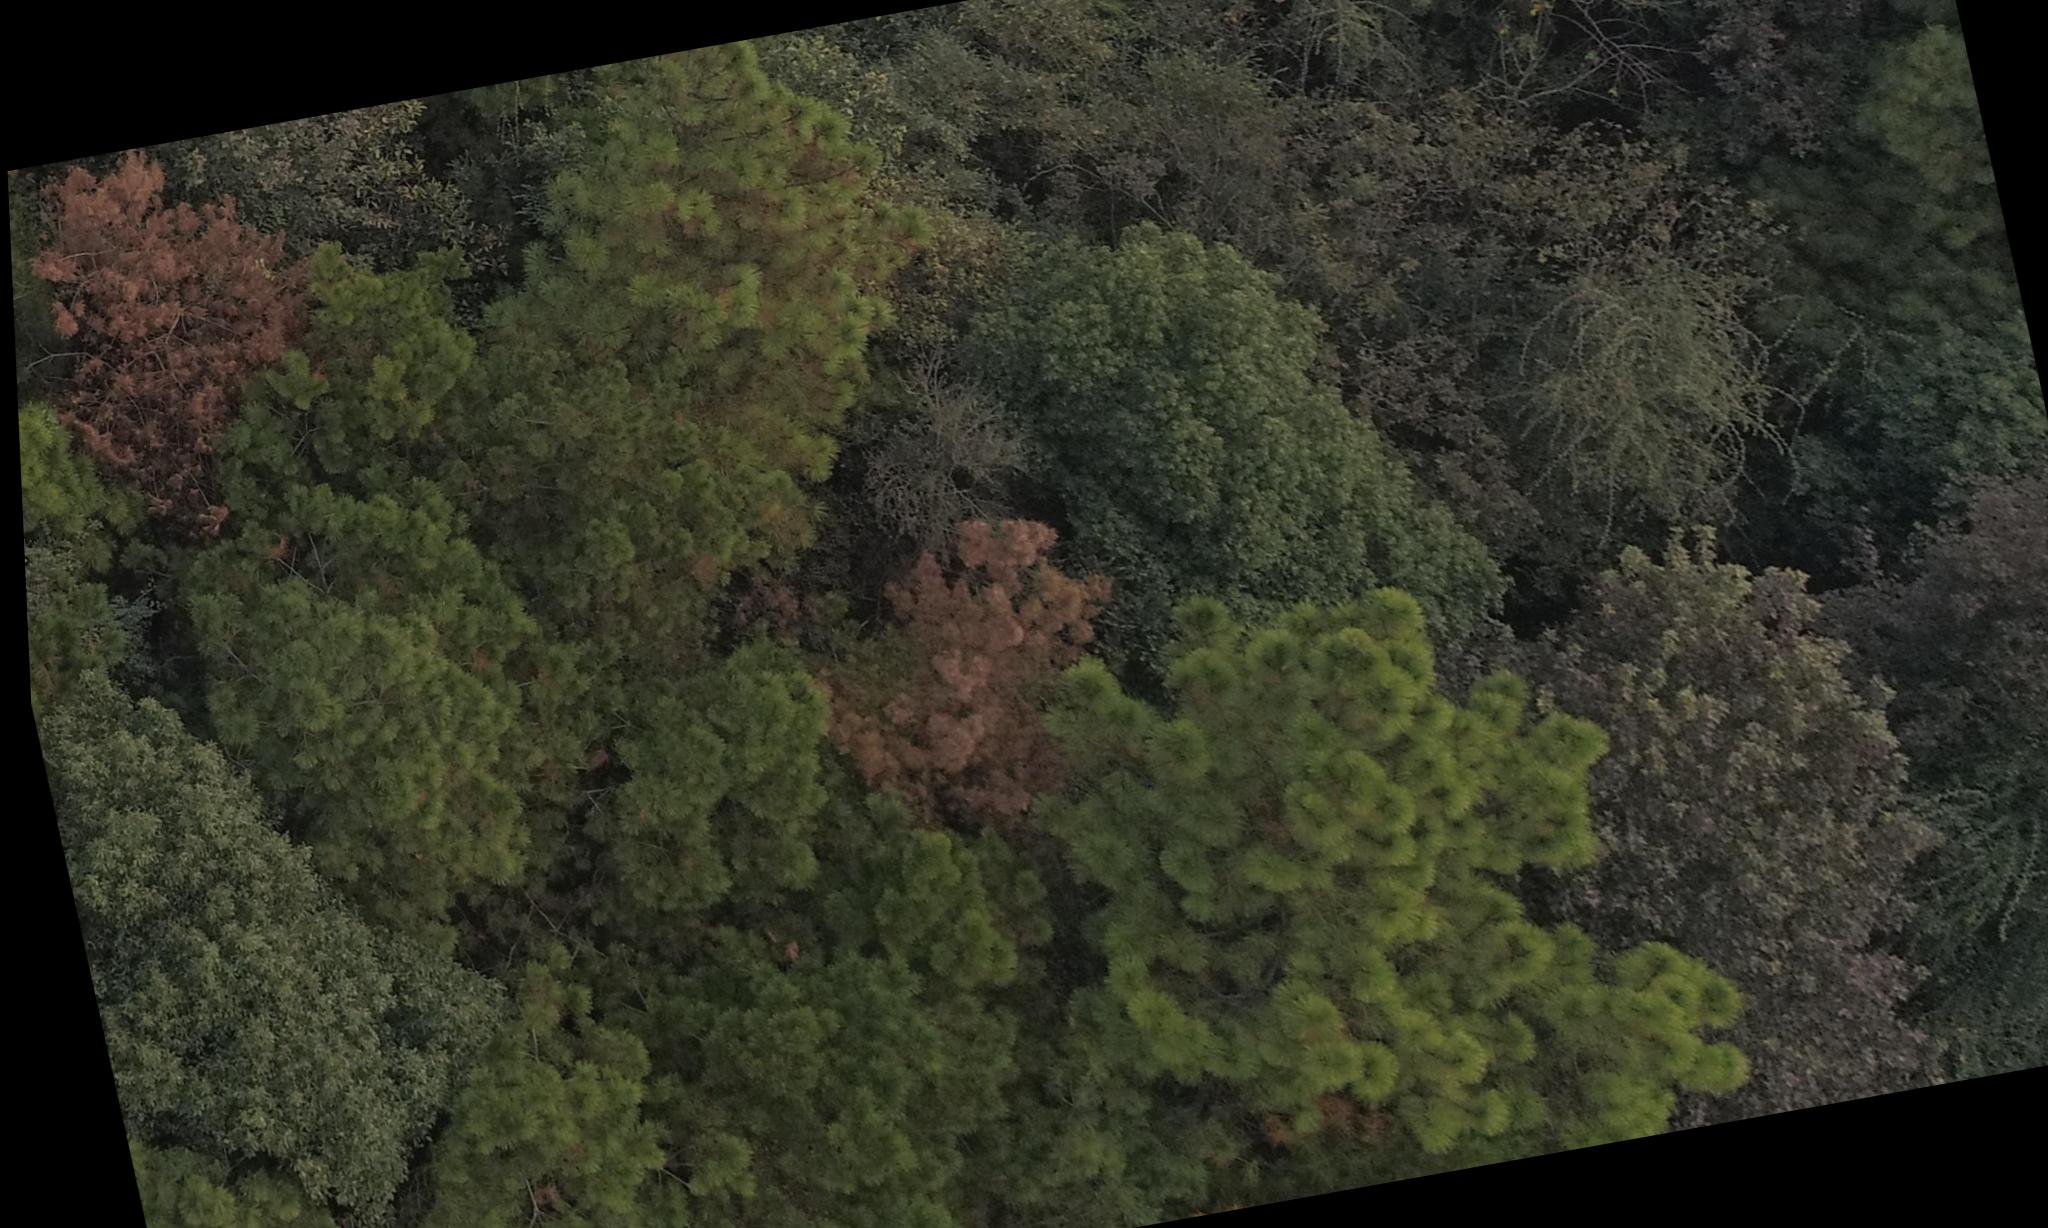heavy: (4, 139, 316, 550), (803, 512, 1130, 839)
